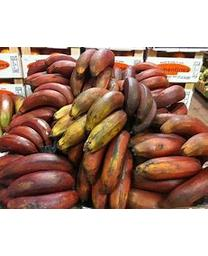banana: (0, 49, 207, 207)
